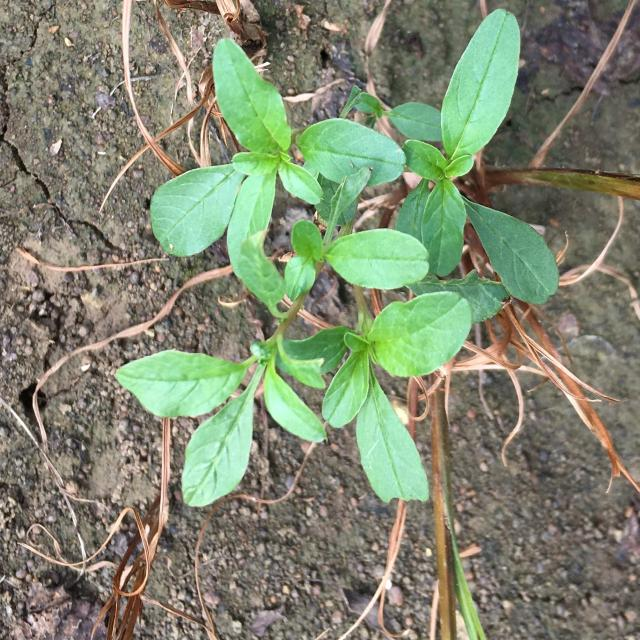Waterhemp: (114, 9, 560, 508)
